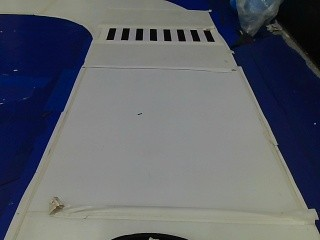crosswalk: (98, 24, 222, 46)
